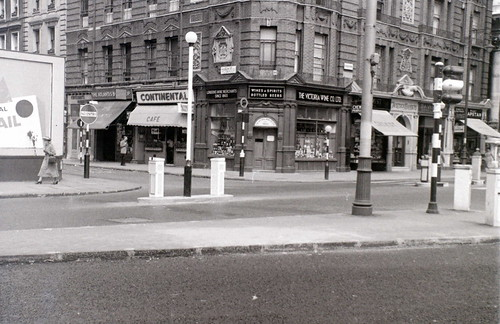building: (66, 1, 493, 171)
sidewalk: (3, 175, 120, 201)
sign: (77, 108, 96, 125)
street: (1, 180, 500, 324)
